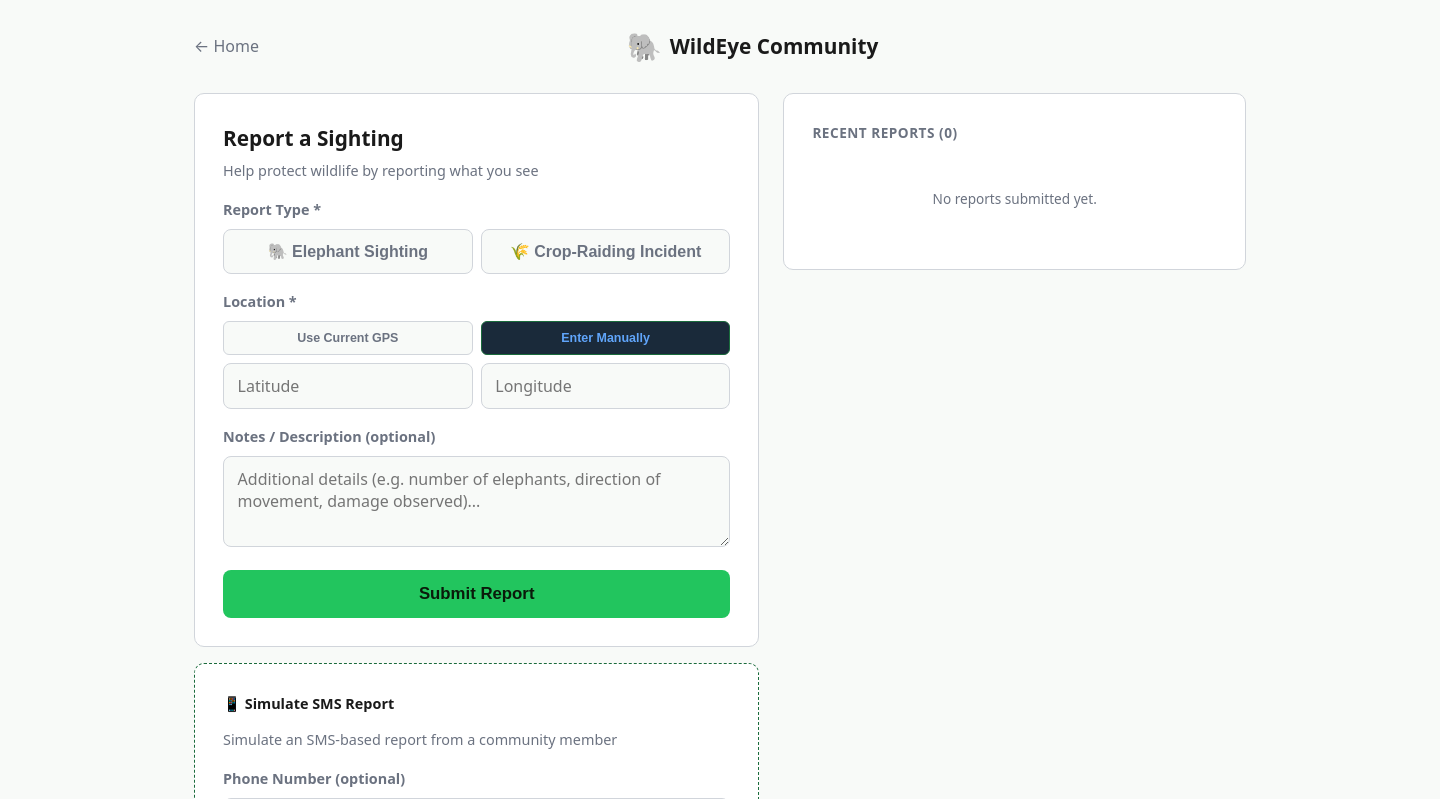
CommunityReporting - validation › requires a report type
Type "6.855" into the number field with placeholder "Latitude".
click(348, 386); type("6.855")  # box [223, 363, 473, 409]
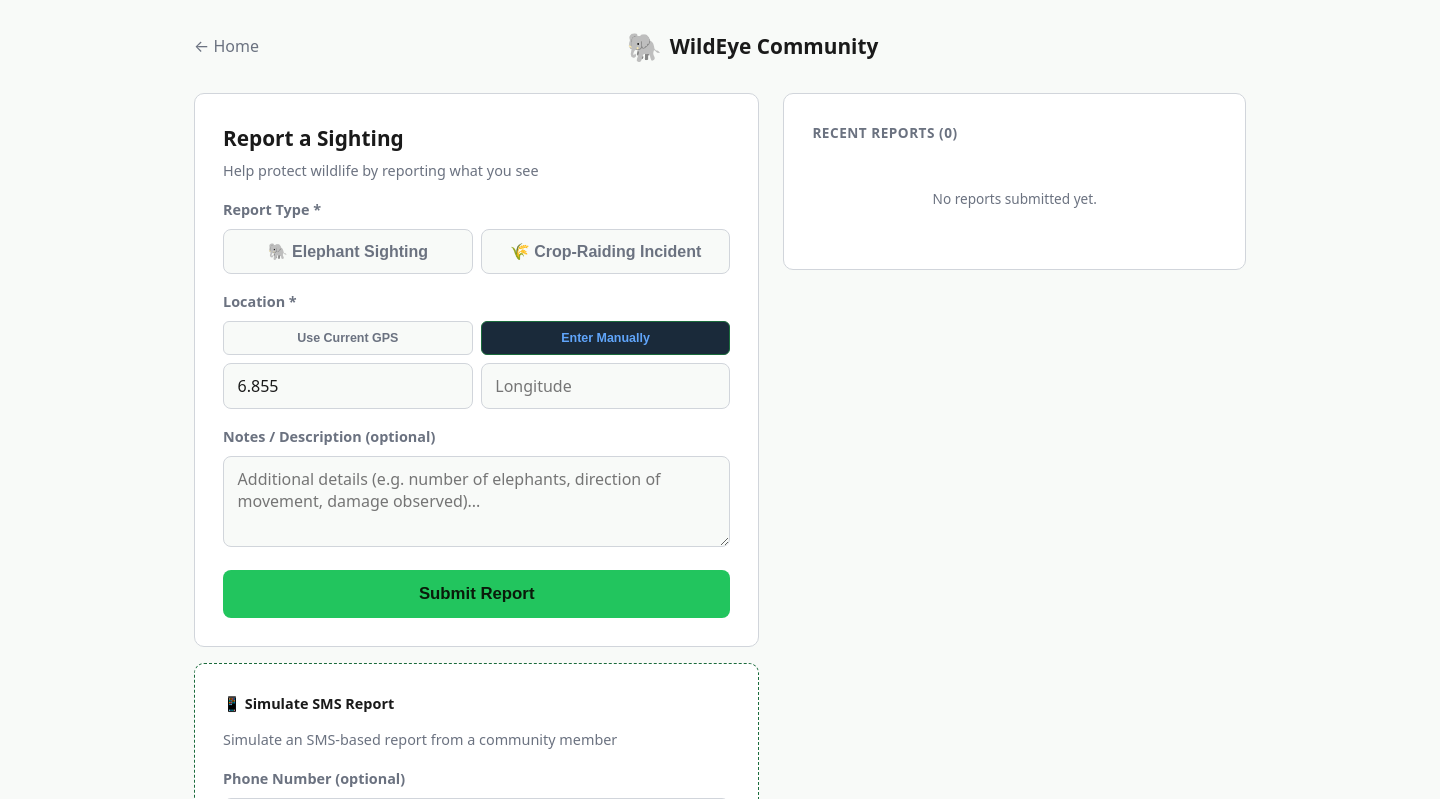
Type "80.91" into the number field with placeholder "Longitude".
click(606, 386); type("80.91")  # box [481, 363, 730, 409]
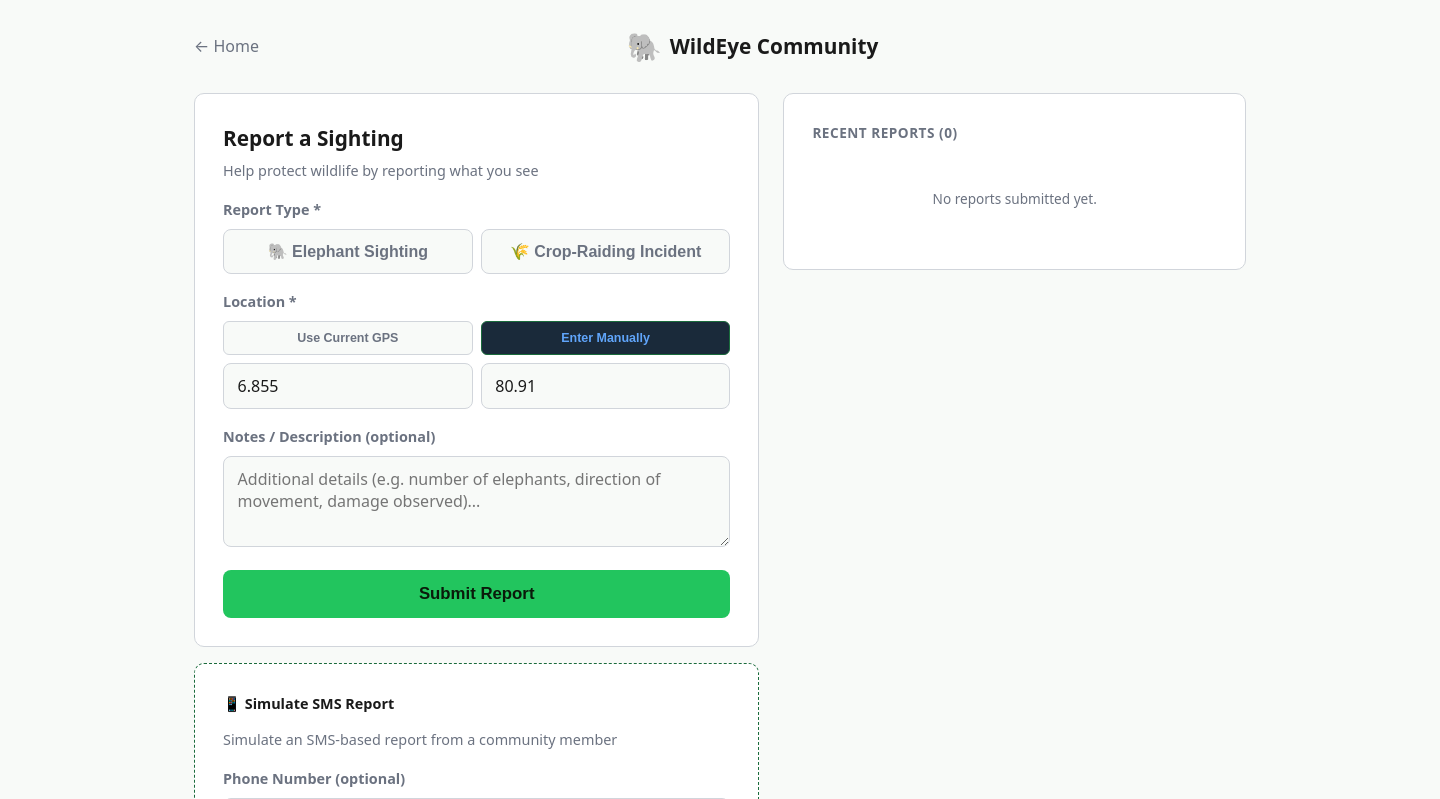
Click the button "Submit Report".
click(477, 594)  # box [223, 570, 730, 618]
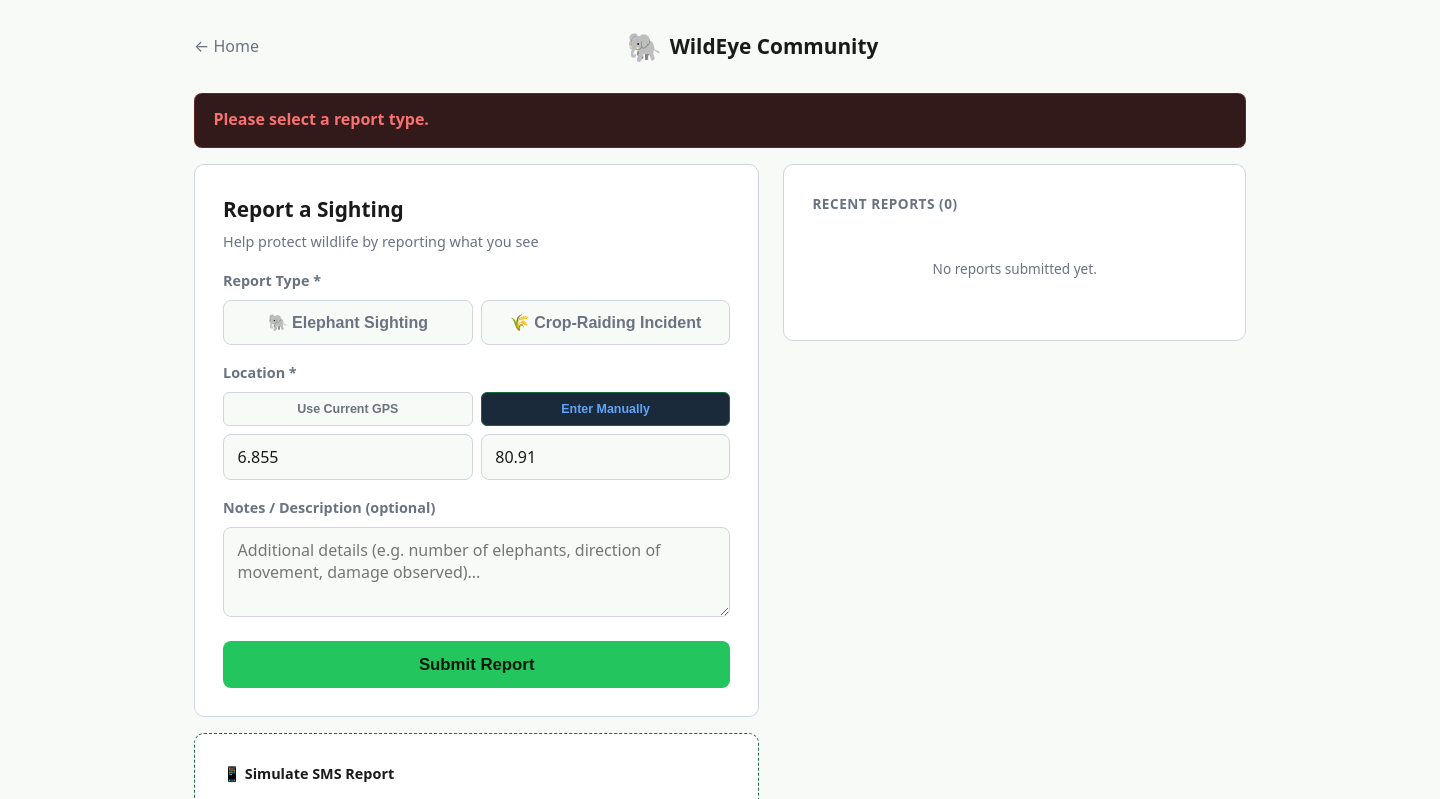
Result: the text "Please select a report type." is shown at [194, 93, 1246, 148]
